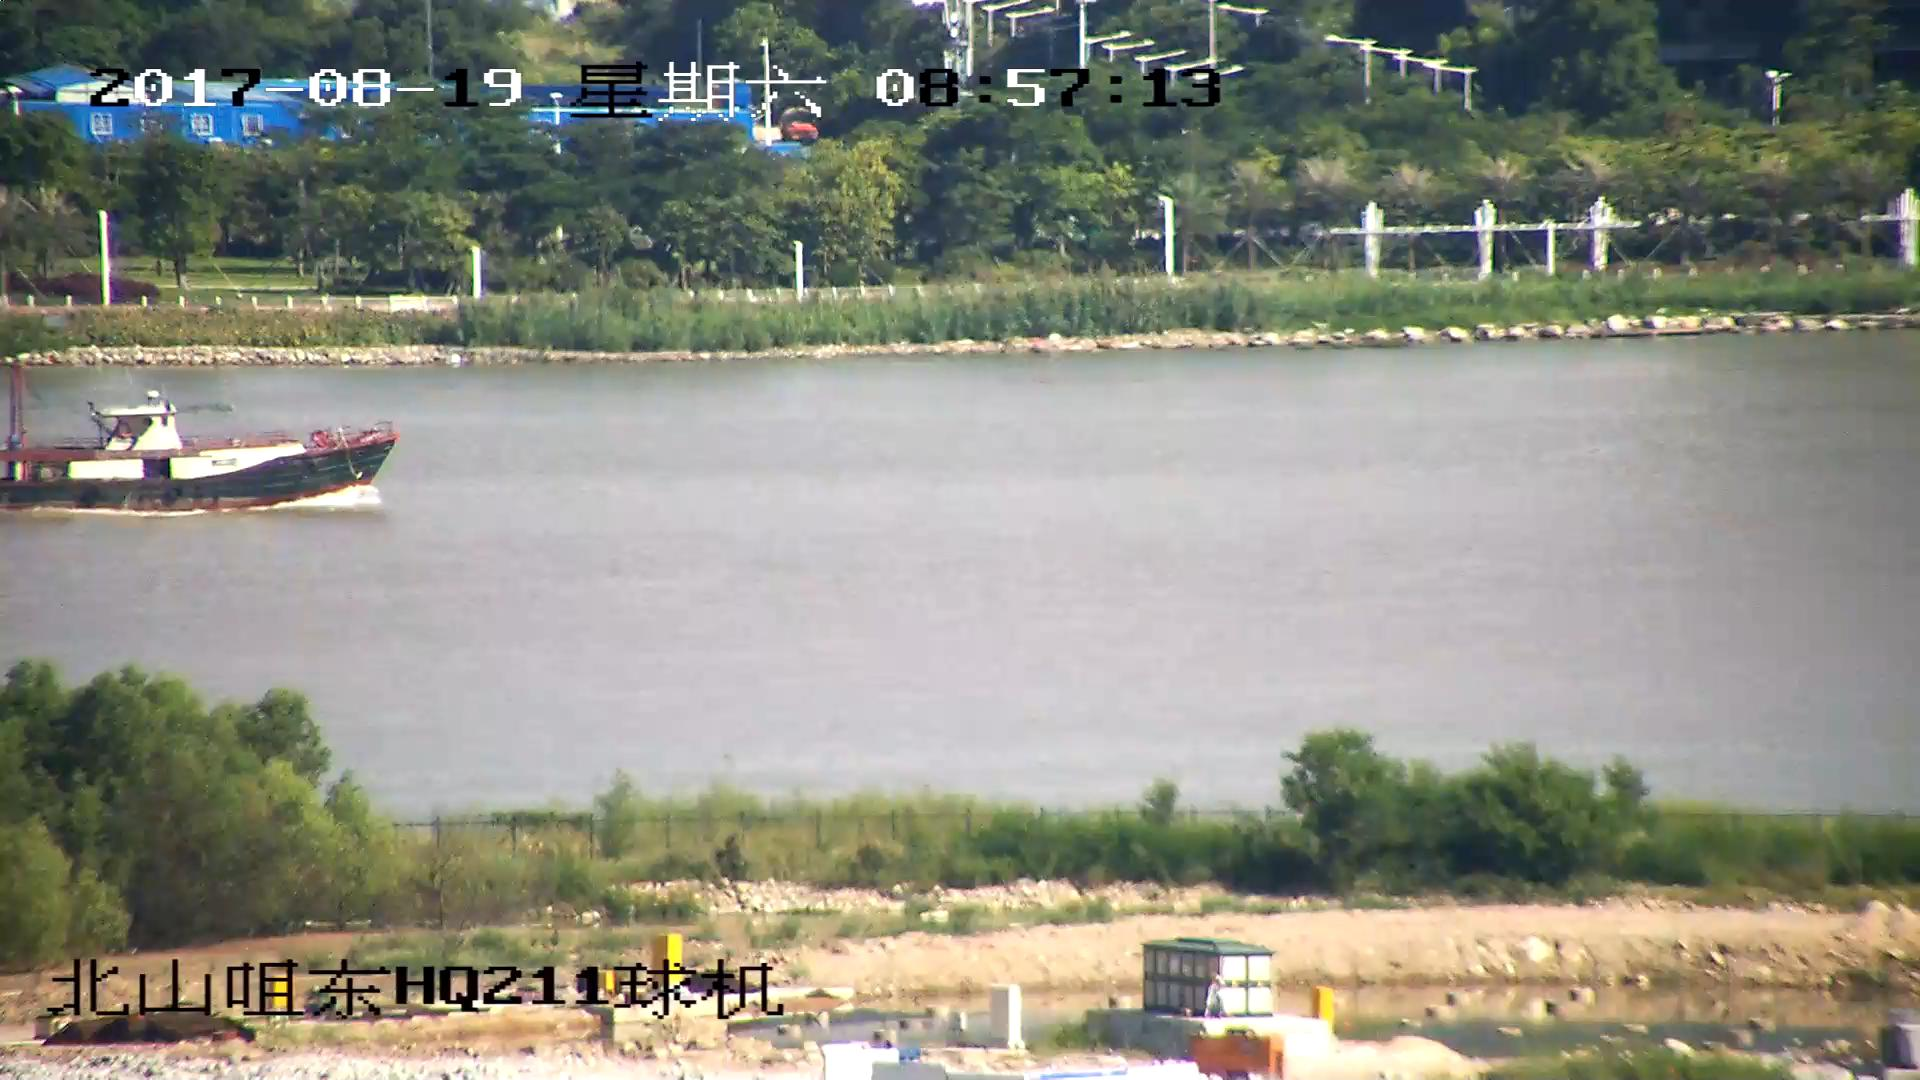fishing boat: (1, 360, 401, 509)
